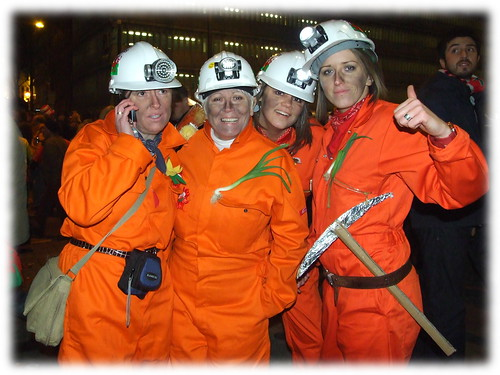person hardhat: (292, 14, 470, 355), (68, 43, 183, 365), (176, 44, 292, 363), (256, 36, 324, 228)
